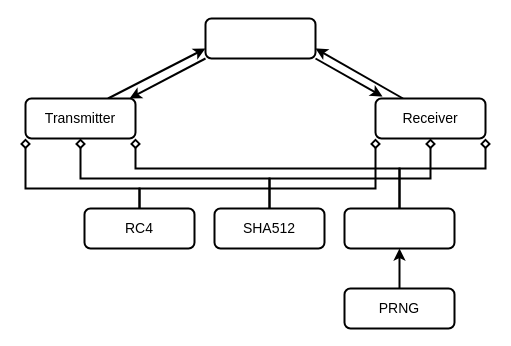
Image size: 511x346. Some labels were removed from this diagram. The shapes that lost their labels are listed below. From the top down, each one's centre as x and y in pixels, then its label:
(260,38): Communication System
(399,228): RSA
